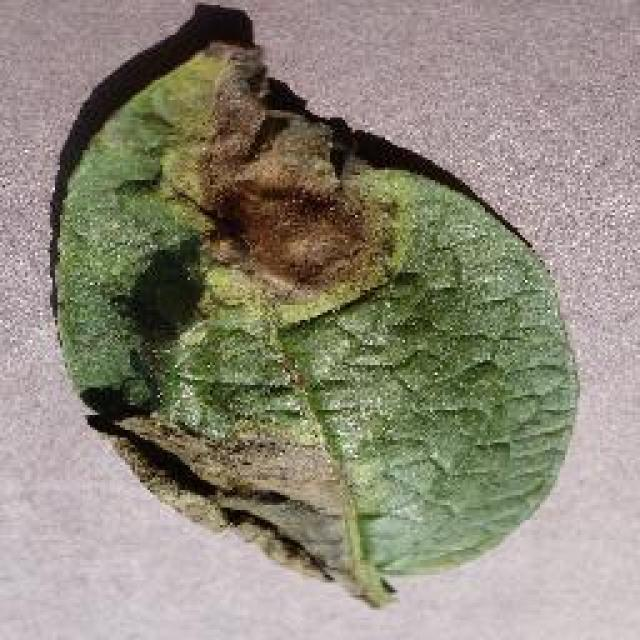late_blight: (45, 8, 583, 608)
